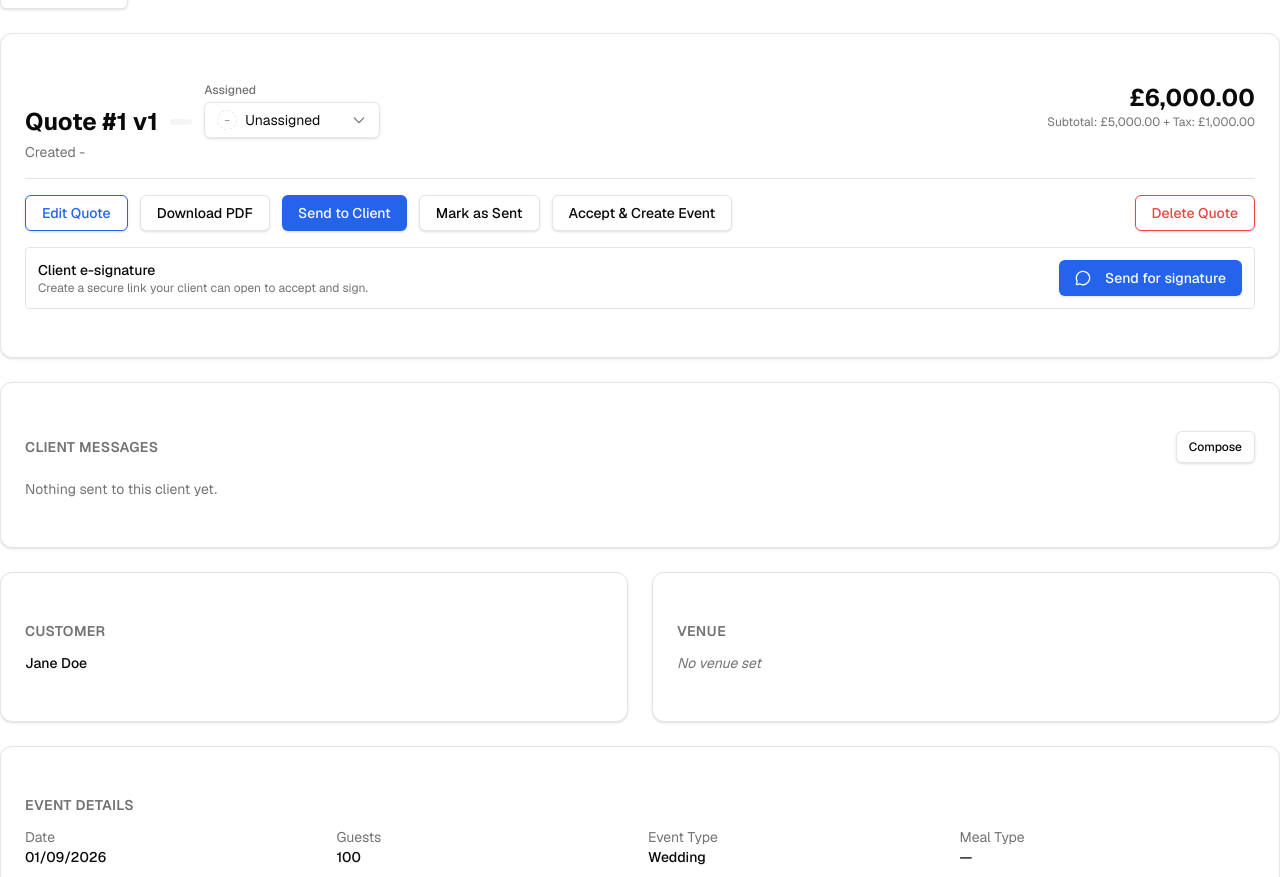
Quote — the one Menu card at proposal › is one card — the old Courses and Menu-choices cards are gone
Click the button "Edit Quote" at (76, 213), box [25,195,128,231]
(page scrolled)
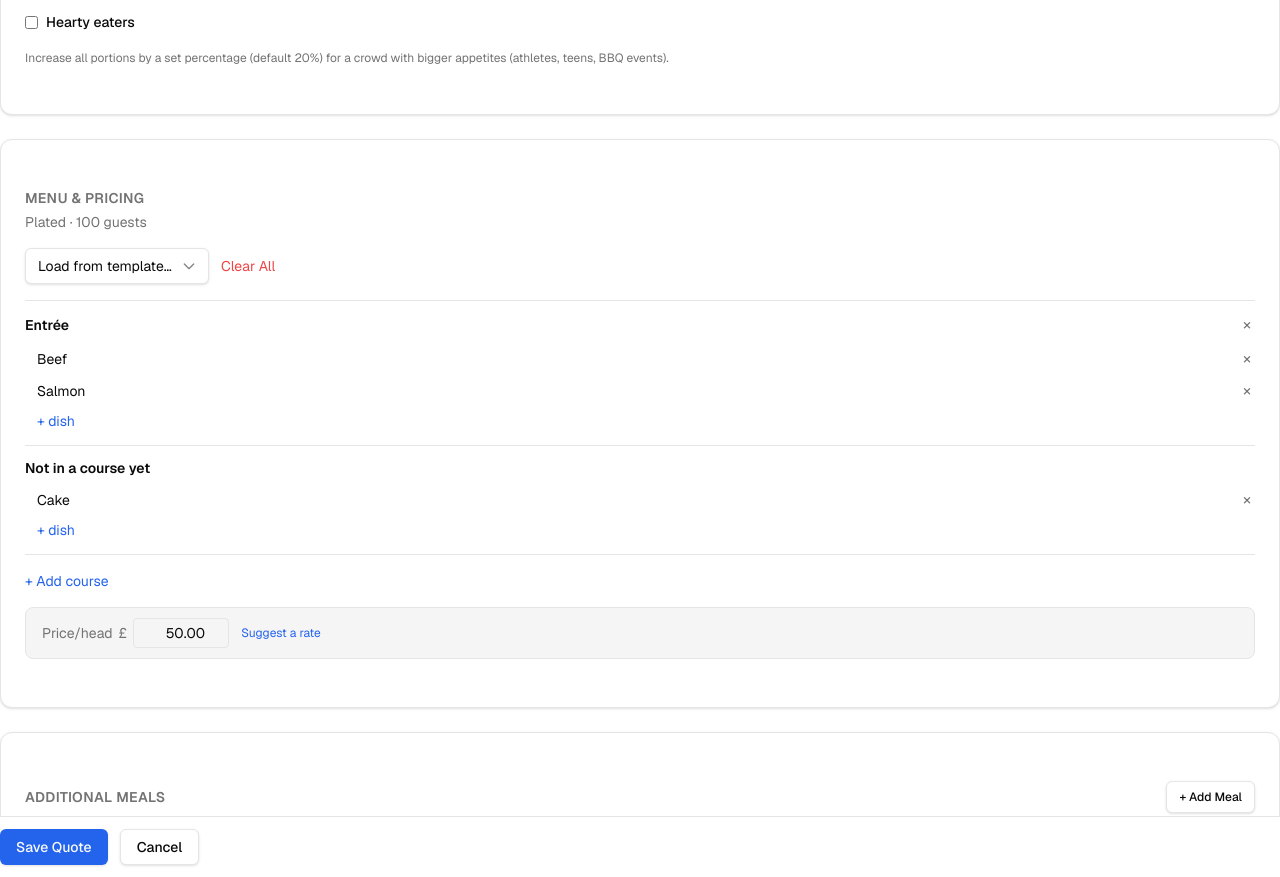
Expected: the element with test id "menu-structure" is shown, [25,300,1255,555]
Expected: the number of buttons named "Remove Beef" is 1, [1239,347,1255,371]
